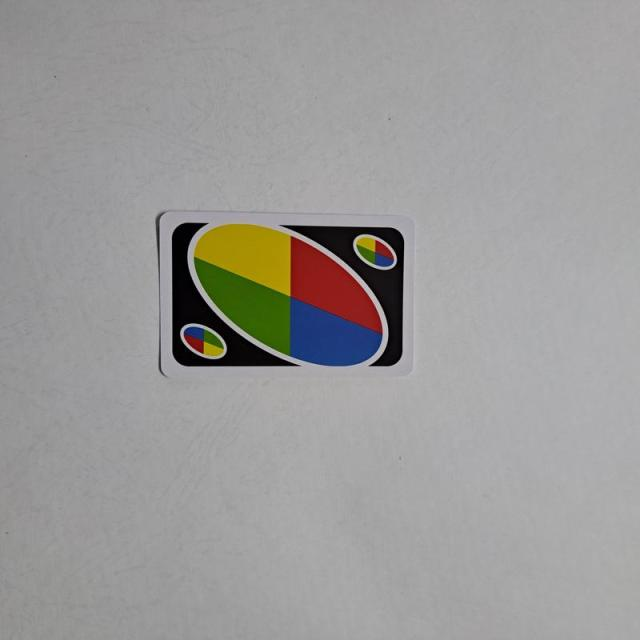Change_Color: (167, 216, 412, 372)
